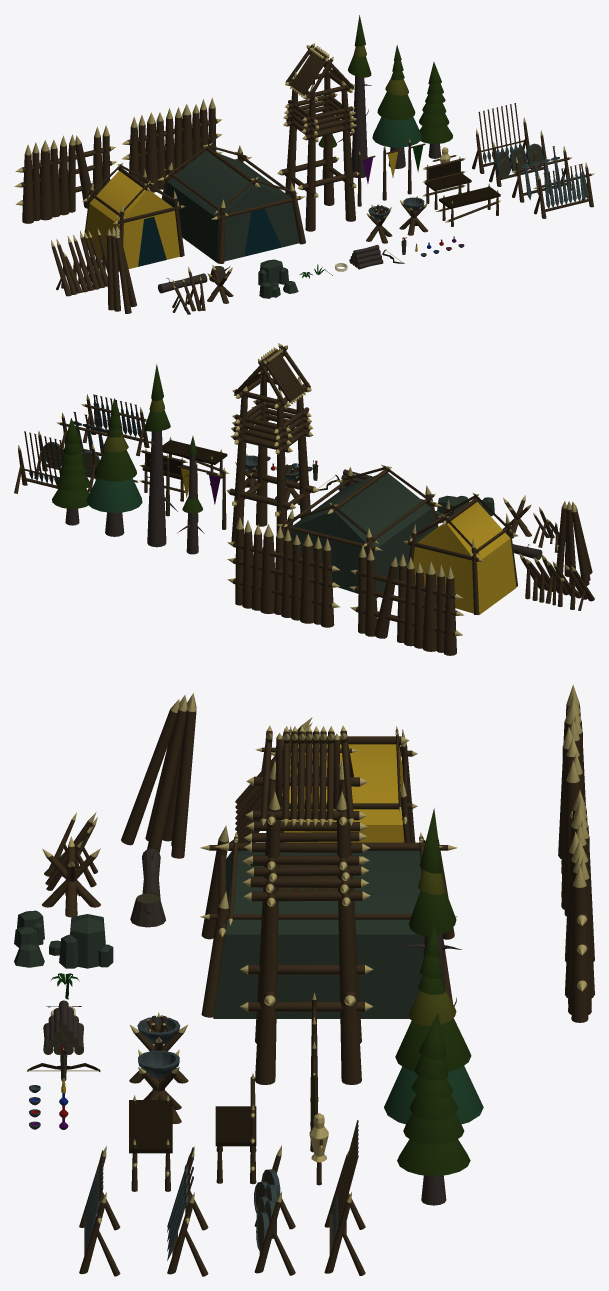
File: camp_kit.glb
The picture shows the model from 3 angles, top to bottom: view 1: azimuth 30°, elevation 25°; view 2: azimuth 150°, elevation 25°; view 3: azimuth 270°, elevation 25°; orthographic projection. The views are drawn at different scales.
Parts seen in each view (by area): view 1: TentA_001, TowerA_001, TentA_002, WallB_001, WallA_001, TreeA_001, WallC_001, TreeC_001, TreeB_001, SpareWoodA_001, TableB_001, TableA_001 (+10 smaller); view 2: TentA_001, TowerA_001, WallA_001, TentA_002, WallB_001, TreeA_001, TreeC_001, TreeB_001, WallC_001, SpareWoodA_001, TreeD_001, TableA_001 (+7 smaller); view 3: TowerA_001, TentA_001, TreeB_001, TentA_002, TreeA_001, SpareWoodA_001, WallA_001, TreeC_001, WallB_001, TableA_001, RockA_001, TableB_001 (+14 smaller).
Boxes of the visible parts, left/top/right/bottom form: TentA_001: left=157, top=143, right=305, bottom=263; TowerA_001: left=277, top=43, right=359, bottom=231; TentA_002: left=82, top=162, right=184, bottom=271; WallB_001: left=14, top=125, right=116, bottom=223; WallA_001: left=122, top=98, right=222, bottom=192; TreeA_001: left=372, top=45, right=421, bottom=168; WallC_001: left=51, top=228, right=107, bottom=296; TreeC_001: left=337, top=15, right=371, bottom=177; TreeB_001: left=419, top=61, right=452, bottom=158; SpareWoodA_001: left=106, top=225, right=136, bottom=313; TableB_001: left=422, top=157, right=471, bottom=209; TableA_001: left=435, top=183, right=500, bottom=226; TentA_001: left=276, top=464, right=442, bottom=597; TowerA_001: left=226, top=343, right=318, bottom=541; WallA_001: left=227, top=517, right=340, bottom=627; TentA_002: left=403, top=492, right=518, bottom=614; WallB_001: left=349, top=545, right=464, bottom=655; TreeA_001: left=86, top=398, right=142, bottom=536; TreeC_001: left=140, top=364, right=177, bottom=547; TreeB_001: left=52, top=418, right=90, bottom=525; WallC_001: left=519, top=553, right=594, bottom=610; SpareWoodA_001: left=556, top=501, right=592, bottom=585; TreeD_001: left=177, top=436, right=204, bottom=554; TableA_001: left=162, top=437, right=229, bottom=485; TowerA_001: left=240, top=725, right=373, bottom=1084; TentA_001: left=200, top=825, right=457, bottom=1018; TreeB_001: left=397, top=1012, right=470, bottom=1205; TentA_002: left=271, top=725, right=417, bottom=842; TreeA_001: left=384, top=923, right=483, bottom=1124; SpareWoodA_001: left=121, top=693, right=196, bottom=858; WallA_001: left=565, top=789, right=594, bottom=1022; TreeC_001: left=402, top=808, right=461, bottom=1006; WallB_001: left=558, top=684, right=585, bottom=916; TableA_001: left=129, top=1095, right=172, bottom=1191; RockA_001: left=49, top=914, right=113, bottom=968; TableB_001: left=215, top=1073, right=256, bottom=1184.
Bounding box in the file's own units: 1968 × 663 × 1007.
Materials: 1 (1 with a texture image).
